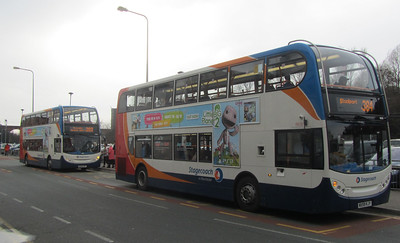bus: (113, 41, 389, 213), (19, 105, 102, 172)
